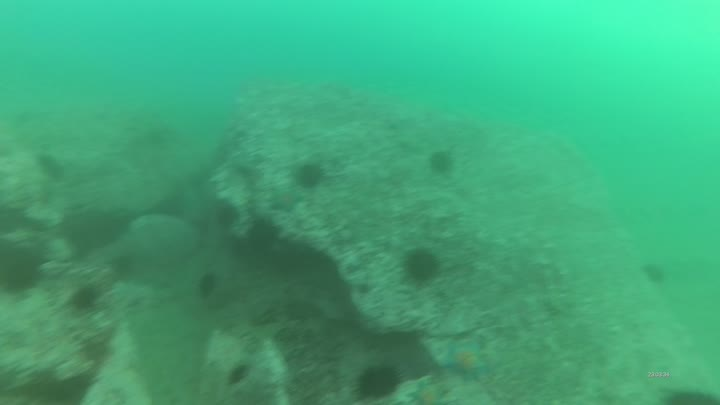echinus: (351, 363, 409, 402), (406, 247, 441, 285), (246, 220, 279, 253), (659, 389, 720, 405), (297, 162, 326, 190), (69, 286, 99, 313), (214, 203, 241, 228), (198, 270, 219, 301), (429, 150, 455, 175), (227, 363, 252, 388), (643, 262, 668, 285)
starfish: (437, 337, 494, 382), (403, 378, 451, 405), (267, 188, 306, 214)
